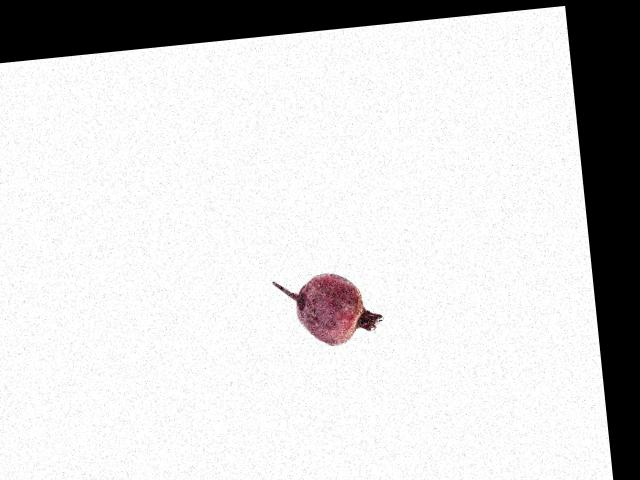beet: (273, 268, 385, 349)
